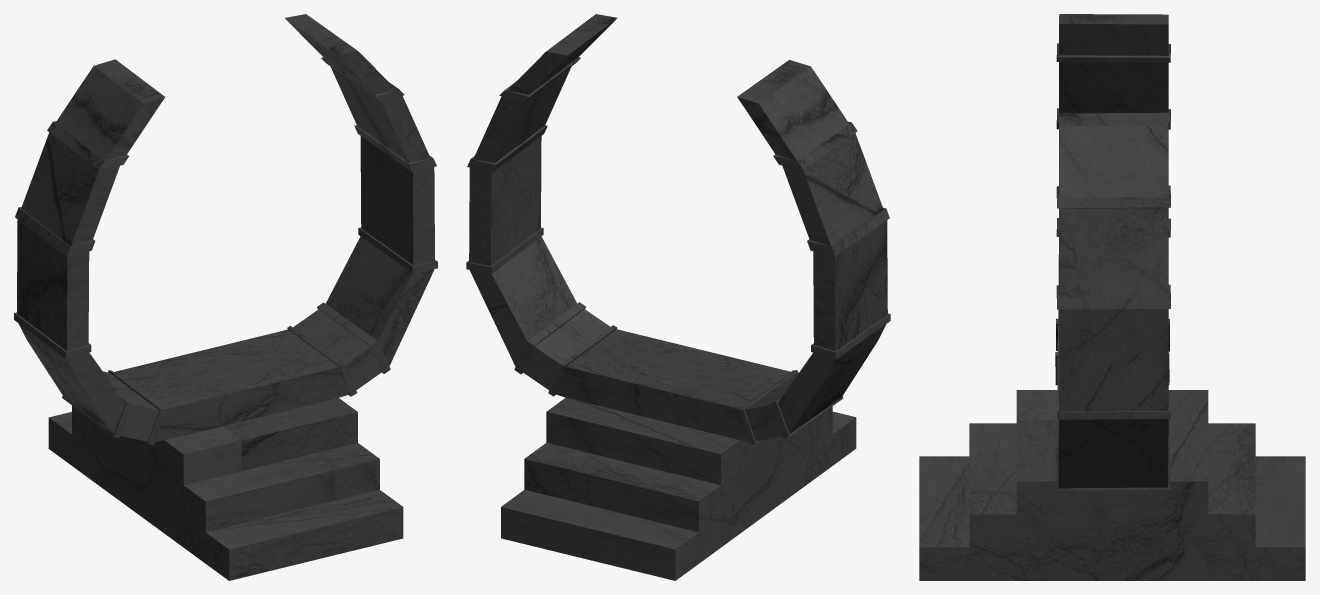
File: Portal_Stairs.fbx
3 renders of one model, left to right at view 1: azimuth 30°, elevation 25°; view 2: azimuth 150°, elevation 25°; view 3: azimuth 270°, elevation 25°, orthographic. The views are drawn at different scales.
Parts seen in each view (by area): view 1: pCube1; view 2: pCube1; view 3: pCube1.
Part boxes in pixels (x1,y1,x2,y2): pCube1: (14,14,437,580); pCube1: (466,14,890,580); pCube1: (919,14,1305,580).
Size of the model in its own units: 4.2 by 4.7 by 3.53.
2 materials, 2 textured.
